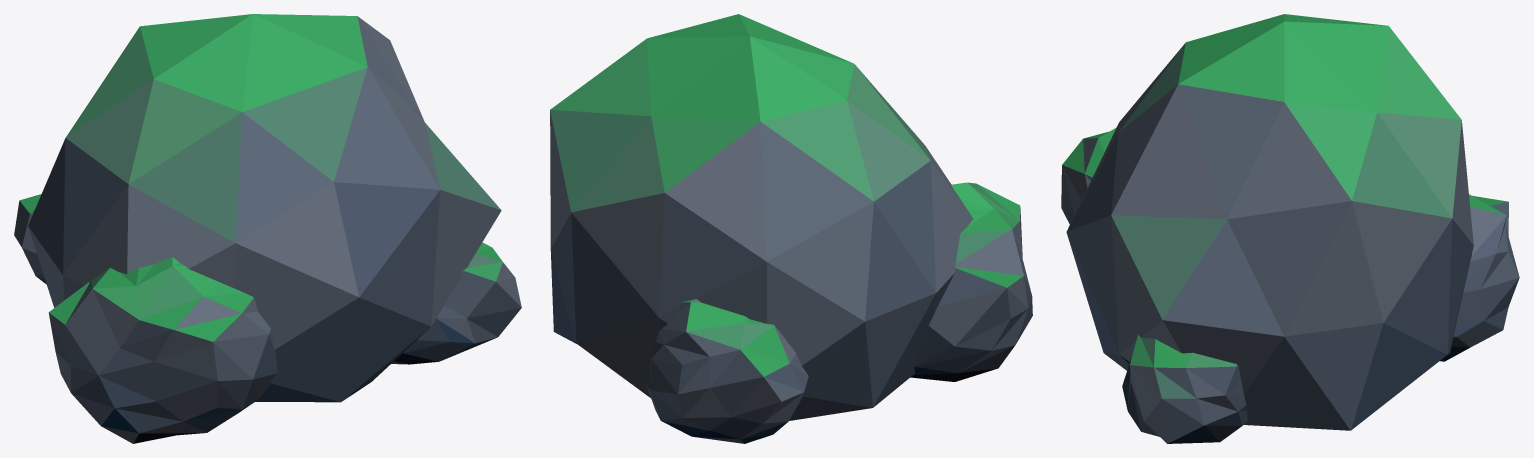
File: batu_boulder_granite_888934.glb
3 views of the same model, side by side, from view 1: azimuth 30°, elevation 25°; view 2: azimuth 150°, elevation 25°; view 3: azimuth 270°, elevation 25° (orthographic). The views are drawn at different scales.
Visible parts, largest first — view 1: Batu_Jeram_Sungai; view 2: Batu_Jeram_Sungai; view 3: Batu_Jeram_Sungai.
Boxes of the visible parts, x1,y1,x2,y2 form: Batu_Jeram_Sungai: [14, 14, 521, 443]; Batu_Jeram_Sungai: [550, 14, 1032, 443]; Batu_Jeram_Sungai: [1061, 14, 1519, 443].
Size of the model in its own units: 6.46 by 4.98 by 5.74.
